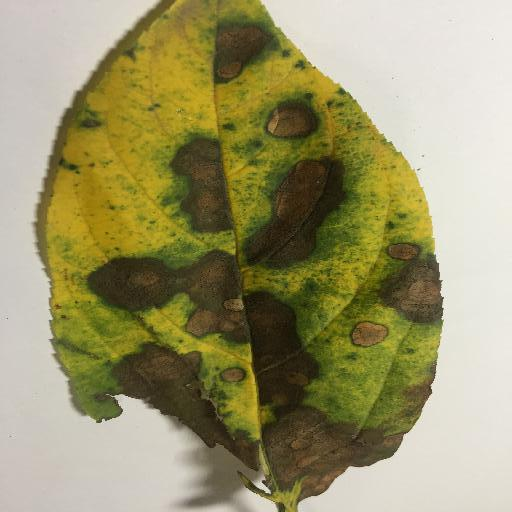Brown_Spot: (120, 349, 248, 466), (248, 156, 340, 259), (93, 250, 237, 300), (274, 418, 390, 480), (175, 146, 235, 232), (254, 304, 301, 402), (214, 25, 266, 78), (390, 266, 442, 314), (193, 305, 247, 340), (270, 99, 315, 136), (349, 318, 388, 349), (388, 242, 416, 258), (220, 370, 245, 385)
